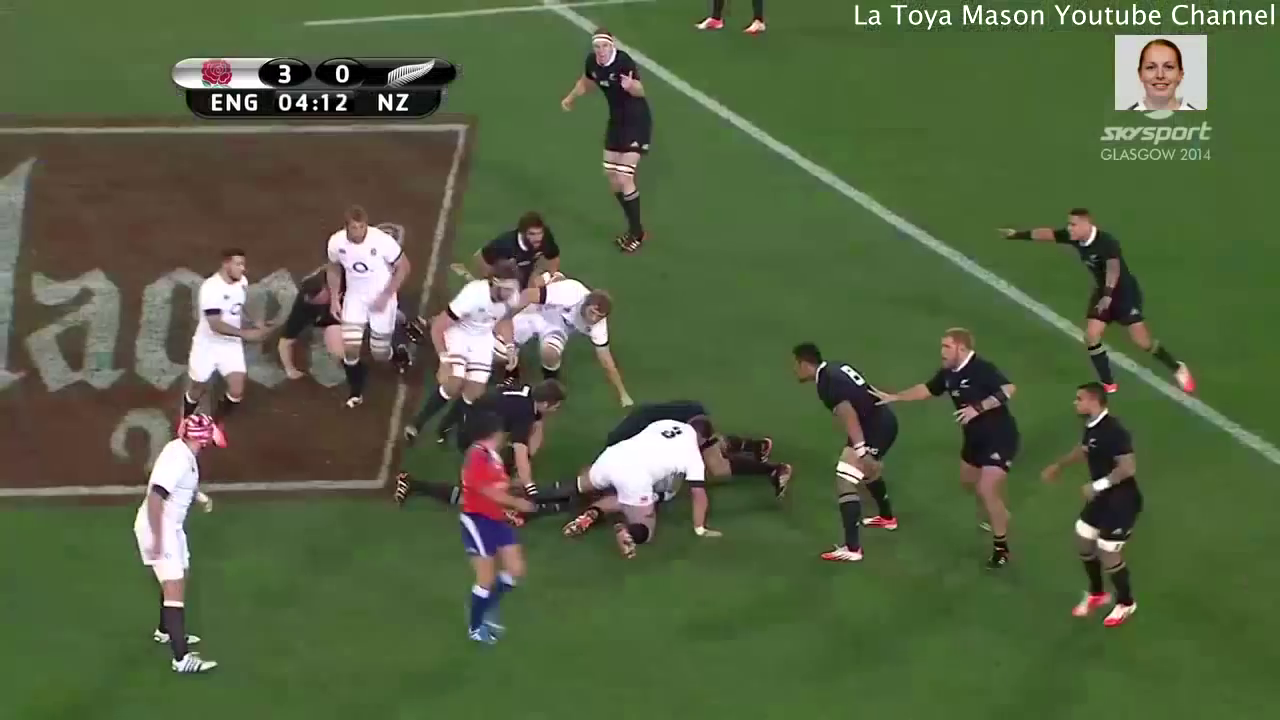player: (999, 215, 1195, 393), (906, 320, 1031, 580), (782, 324, 901, 571), (551, 26, 658, 258), (1046, 380, 1143, 631), (133, 412, 221, 674), (580, 417, 725, 560), (324, 197, 411, 414), (450, 419, 527, 655), (511, 277, 633, 400), (179, 242, 248, 432), (424, 268, 507, 396), (461, 207, 567, 280)
ruck: (565, 380, 781, 564)
